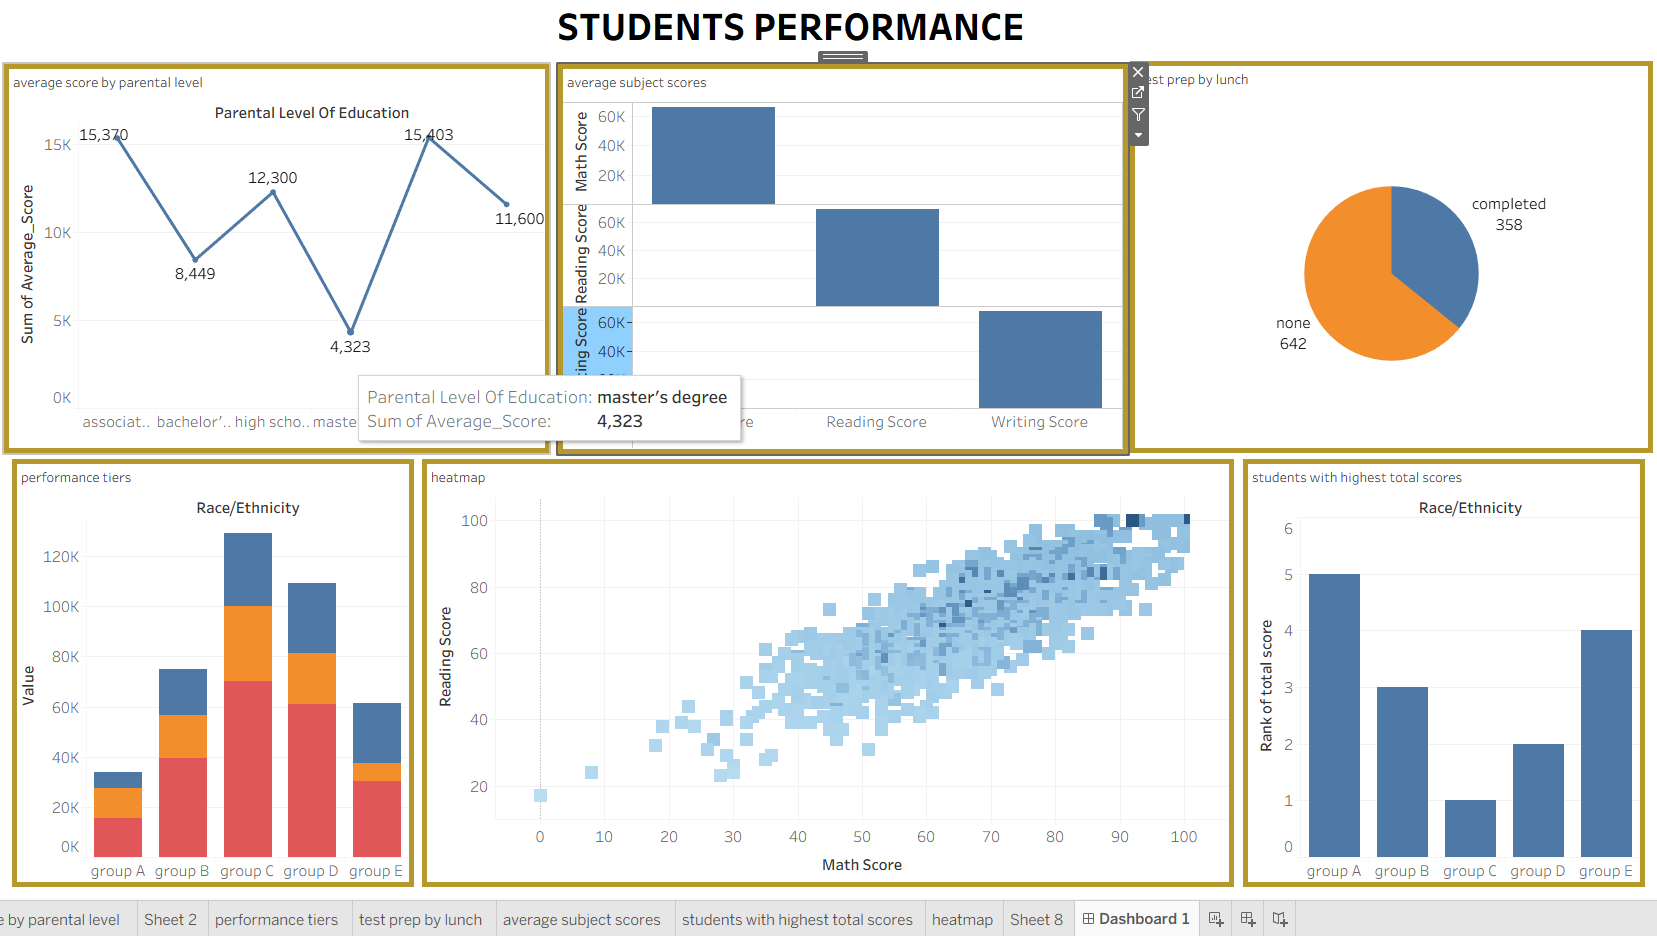

The page's visual inventory and layout, read from the dashboard file:
{"tool":"tableau","page":{"name":"Dashboard 1","canvas":[1000,1000],"units":"permille","ordinal":0},"visuals":[{"type":"title","box":[4.8,8.8,990.3,63.7]},{"type":"worksheet","title":"test prep by lunch","mark":"Pie","box":[681.9,79.9,315.8,430.7]},{"type":"worksheet","title":"average score by parental level","mark":"Line","rows":["Calculation_229120684847370240"],"cols":["parental level of education"],"box":[2.3,83.7,329.2,427]},{"type":"worksheet","title":"average subject scores","mark":"Bar","rows":["math score","reading score","writing score"],"box":[336.9,83.7,343.9,428.2]},{"type":"worksheet","title":"performance tiers","mark":"Bar","cols":["race/ethnicity"],"box":[4.8,512.2,247.6,479]},{"type":"worksheet","title":"heatmap","mark":"Square","rows":["reading score"],"cols":["math score"],"box":[252.4,512.2,495.1,479]},{"type":"worksheet","title":"students with highest total scores","mark":"Automatic","rows":["Calculation_1673087315499036672"],"cols":["race/ethnicity"],"box":[747.5,512.2,247.6,479]}]}

Visuals, with their boxes on the dashboard's canvas, which has no fixed pixel size, in thousandths of its width and height (x1, y1, x2, y2). These are canvas units, not pixel positions in the 1657x936 screenshot, which may show the page scaled, cropped or inside an application window:
title: 5/9/995/72
"test prep by lunch" worksheet (Pie marks): 682/80/998/511
"average score by parental level" worksheet (Line marks): 2/84/332/511
"average subject scores" worksheet (Bar marks): 337/84/681/512
"performance tiers" worksheet (Bar marks): 5/512/252/991
"heatmap" worksheet (Square marks): 252/512/748/991
"students with highest total scores" worksheet: 748/512/995/991
